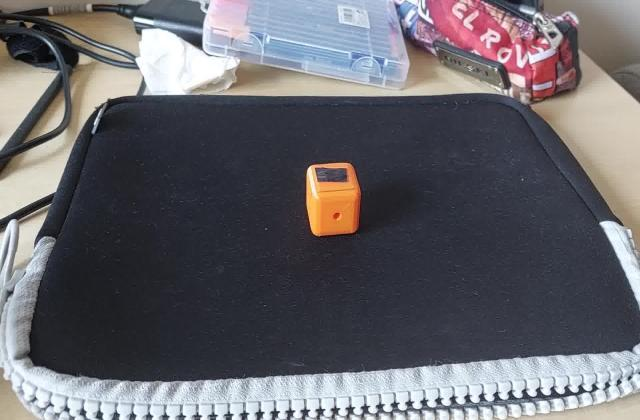black: (314, 164, 354, 186)
cube: (303, 162, 362, 239)
